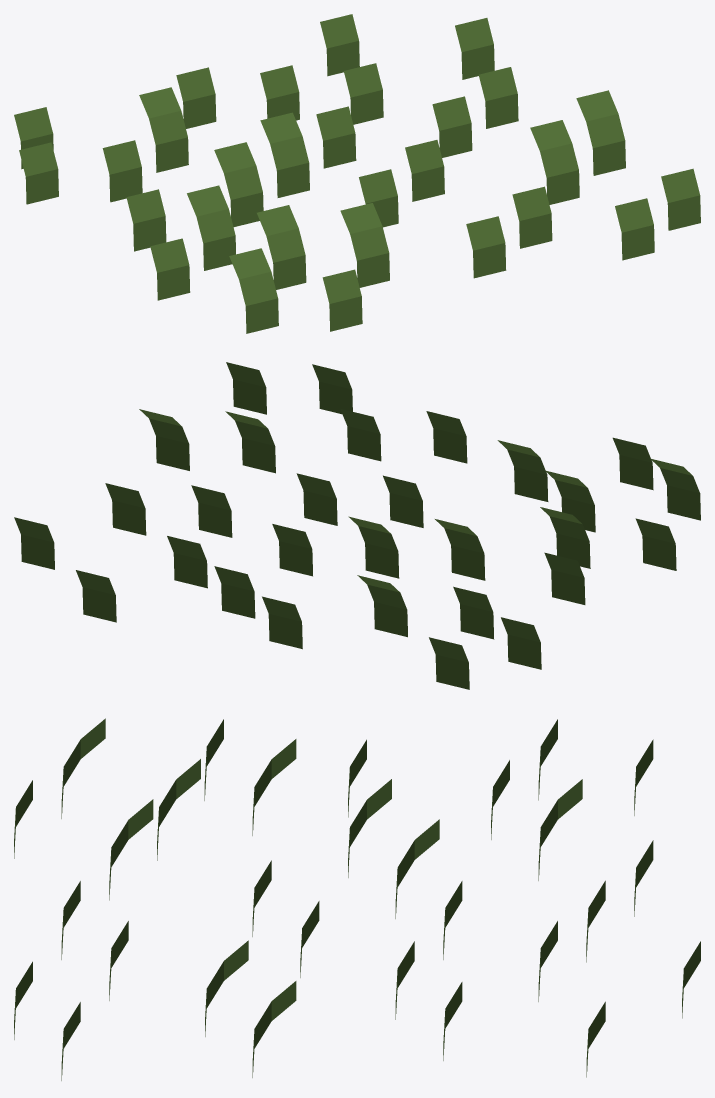
Rendered from plantBTest.obj.
3 views of the same model, one above another, from view 1: azimuth 30°, elevation 25°; view 2: azimuth 150°, elevation 25°; view 3: azimuth 270°, elevation 25° (orthographic). The views are drawn at different scales.
Parts seen in each view (by area): view 1: plantBTest; view 2: plantBTest; view 3: plantBTest.
Boxes of the visible parts, x1,y1,x2,y2 form: plantBTest: (14,14,700,333); plantBTest: (14,362,700,689); plantBTest: (14,718,700,1080).
Size of the model in its own units: 9.38 by 1.2 by 9.
Materials: 1 (1 with a texture image).
